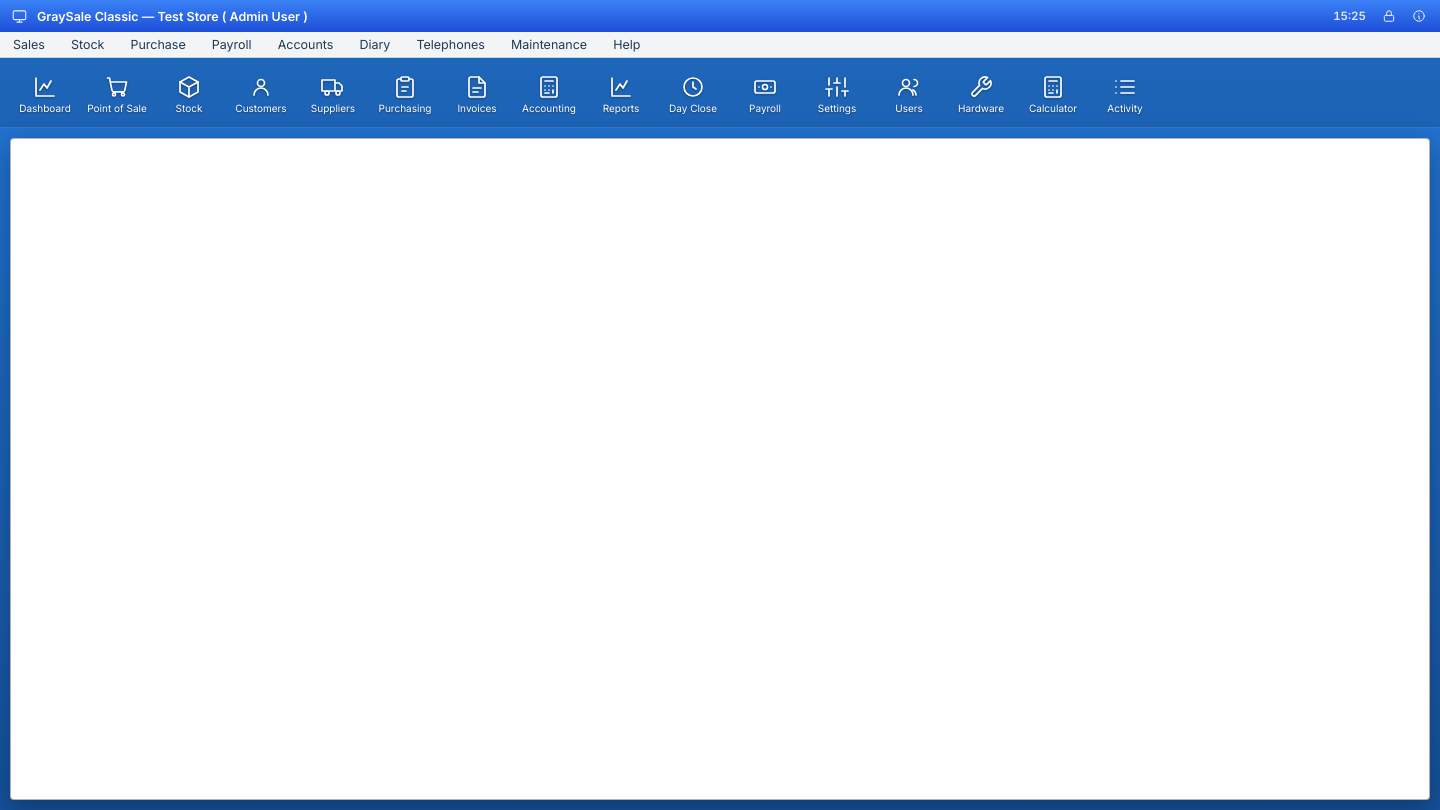
Test: DesktopShell › lock overlay locks and unlocks the workspace
Click the button named "Lock screen". click: [1389, 16]
box: [1376,5,1402,27]
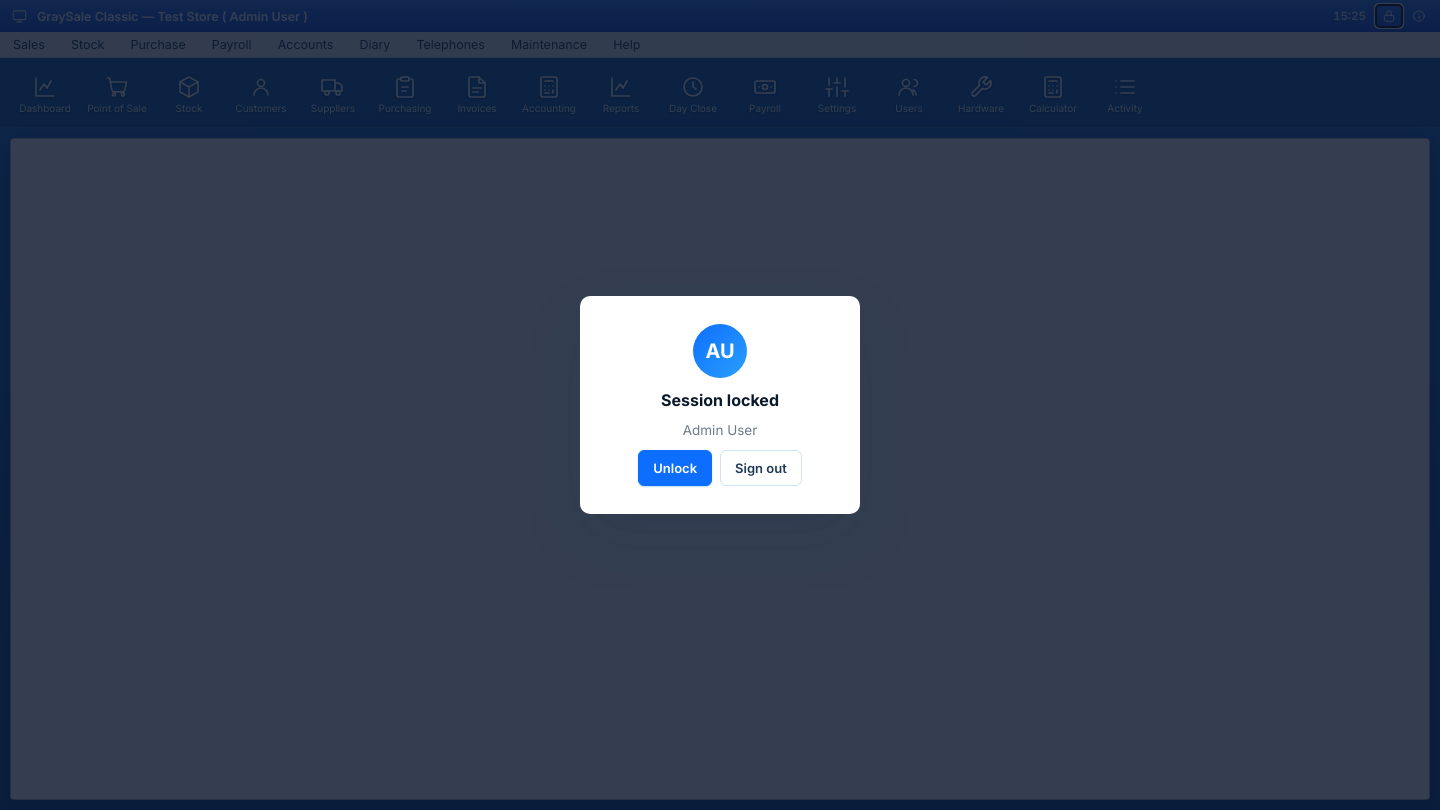
Expected: the heading "Session locked" is shown, [661,390,779,410]
Click the button "Unlock". click: [675, 468]
box: [638,450,712,486]
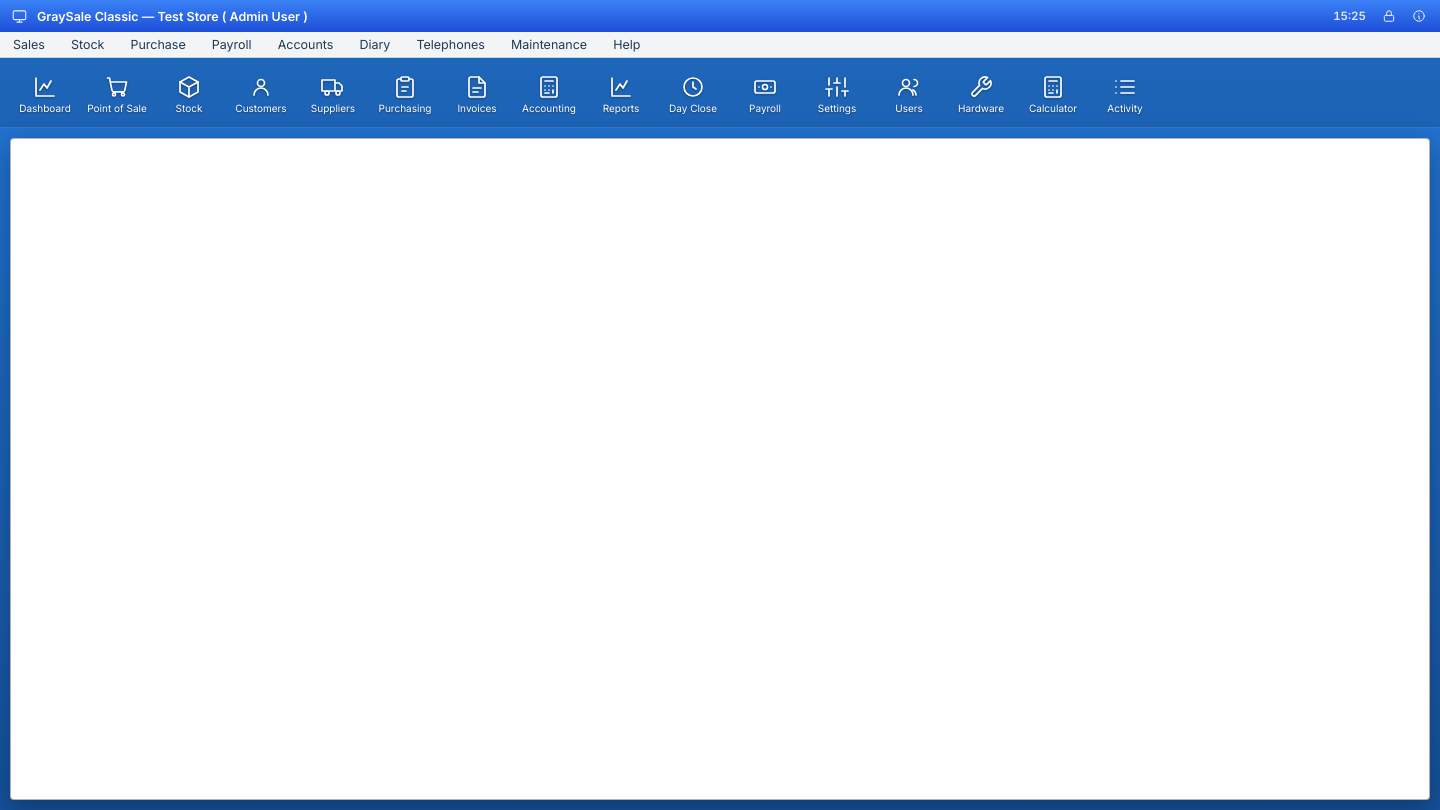
Expected: the heading "Session locked" is gone
